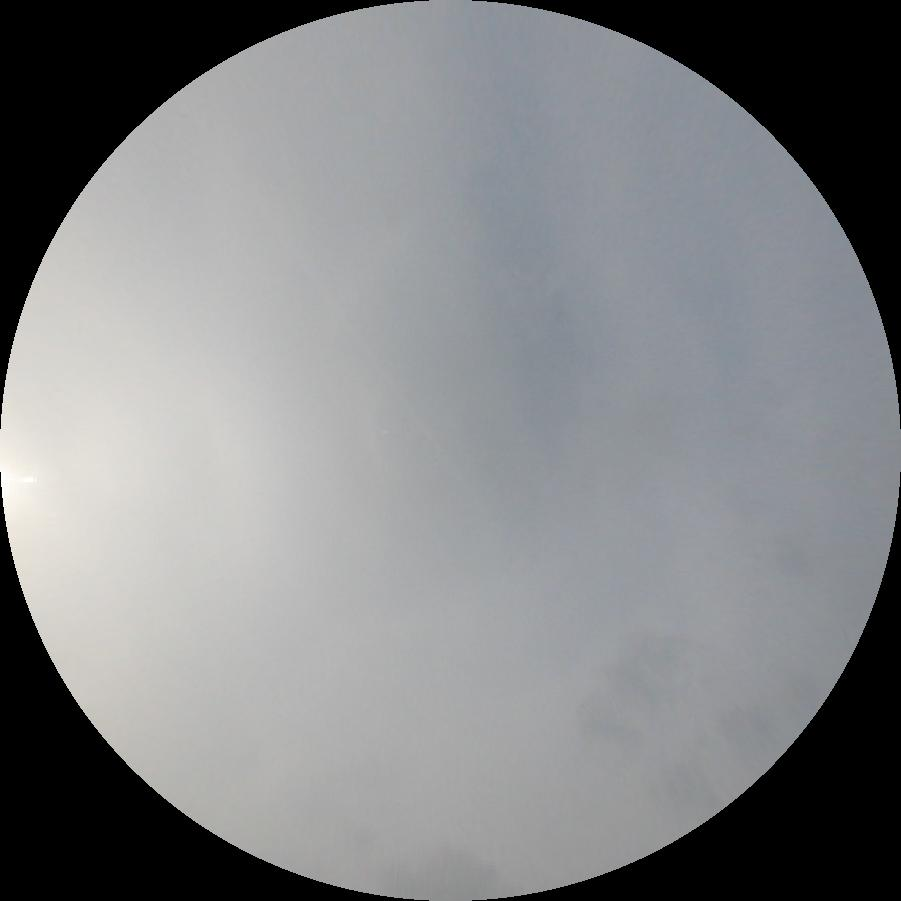contrail old: (211, 139, 512, 540)
